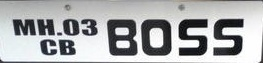character: (105, 18, 138, 57), (139, 17, 172, 56), (212, 17, 245, 56), (177, 17, 209, 57), (11, 18, 37, 37), (36, 17, 56, 36), (61, 17, 81, 36), (39, 38, 58, 56), (57, 38, 76, 56), (80, 18, 97, 37)
